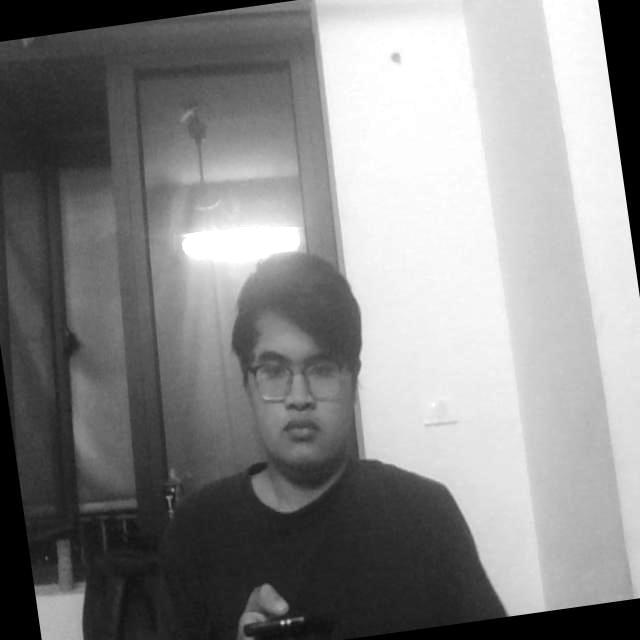phone: (223, 576, 325, 640)
